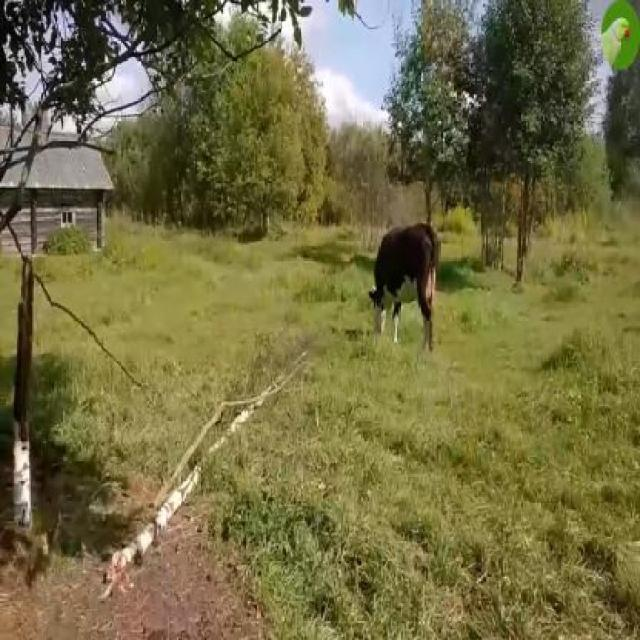Cow: (372, 227, 440, 356)
